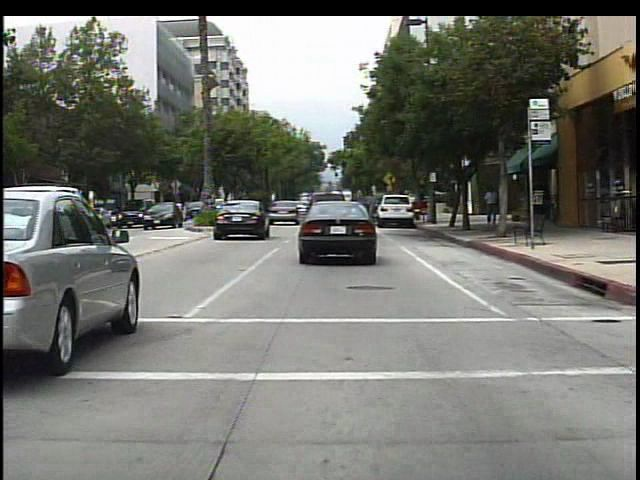person: (481, 184, 502, 228)
